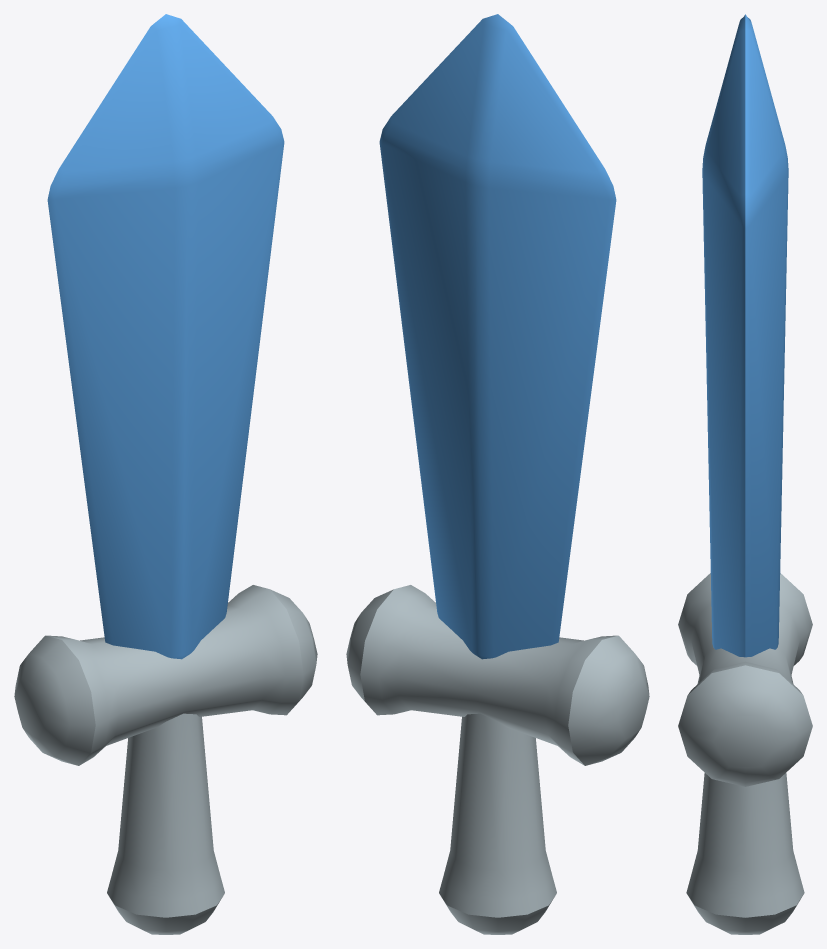
File: sword_teamBlue.glb
3 renders of one model, left to right at view 1: azimuth 30°, elevation 25°; view 2: azimuth 150°, elevation 25°; view 3: azimuth 270°, elevation 25°, orthographic.
Visible parts, largest first — view 1: sword_teamBlue; view 2: sword_teamBlue; view 3: sword_teamBlue.
Part boxes in pixels (box(x1,y1,x2,y2)): sword_teamBlue: box(14, 14, 317, 934); sword_teamBlue: box(346, 14, 649, 934); sword_teamBlue: box(678, 14, 812, 934).
Size of the model in its own units: 0.1281 by 0.411 by 0.0552.
